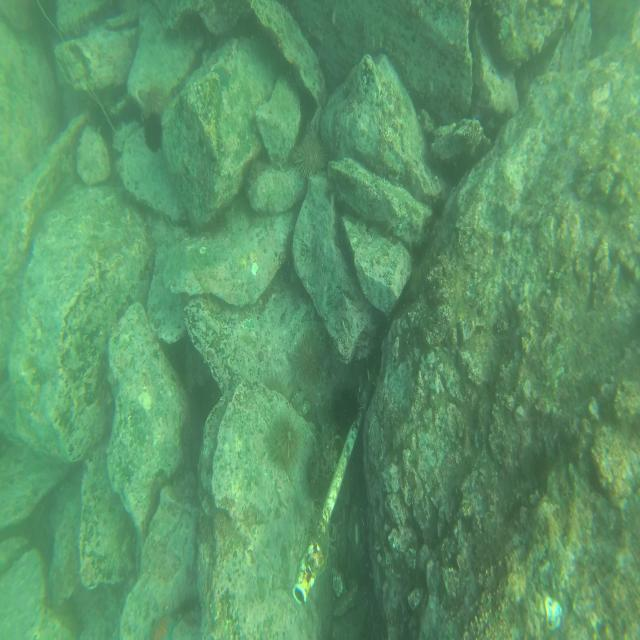echinus: (333, 380, 361, 434), (296, 331, 324, 385), (268, 418, 300, 464), (296, 132, 325, 180), (141, 108, 163, 152), (261, 371, 287, 401)
starfish: (148, 613, 180, 640), (213, 59, 235, 92)
